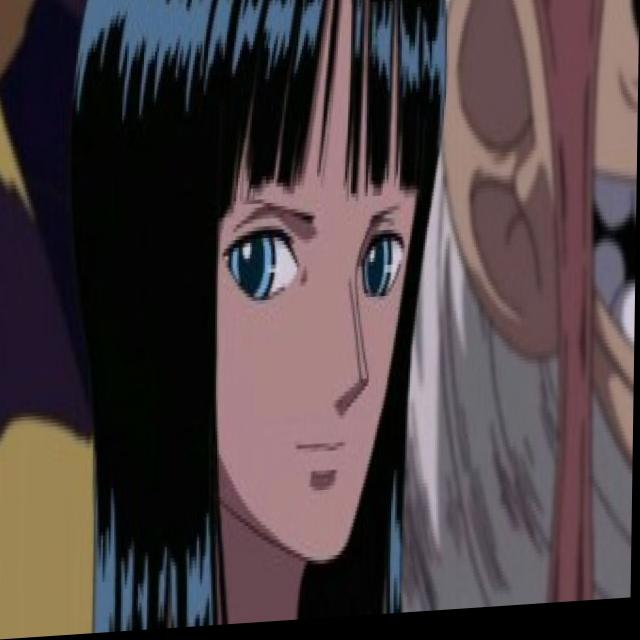NicoRobin: (63, 0, 433, 605)
